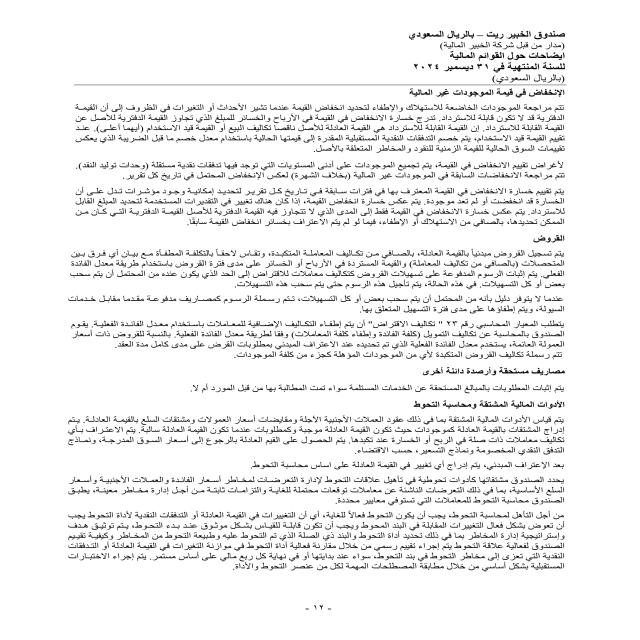notes: (443, 51, 569, 61)
text: (24, 85, 571, 586)
